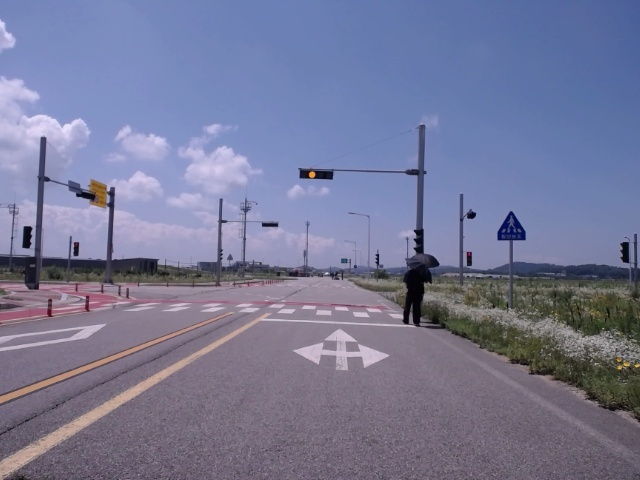orange_4: (298, 169, 335, 180)
